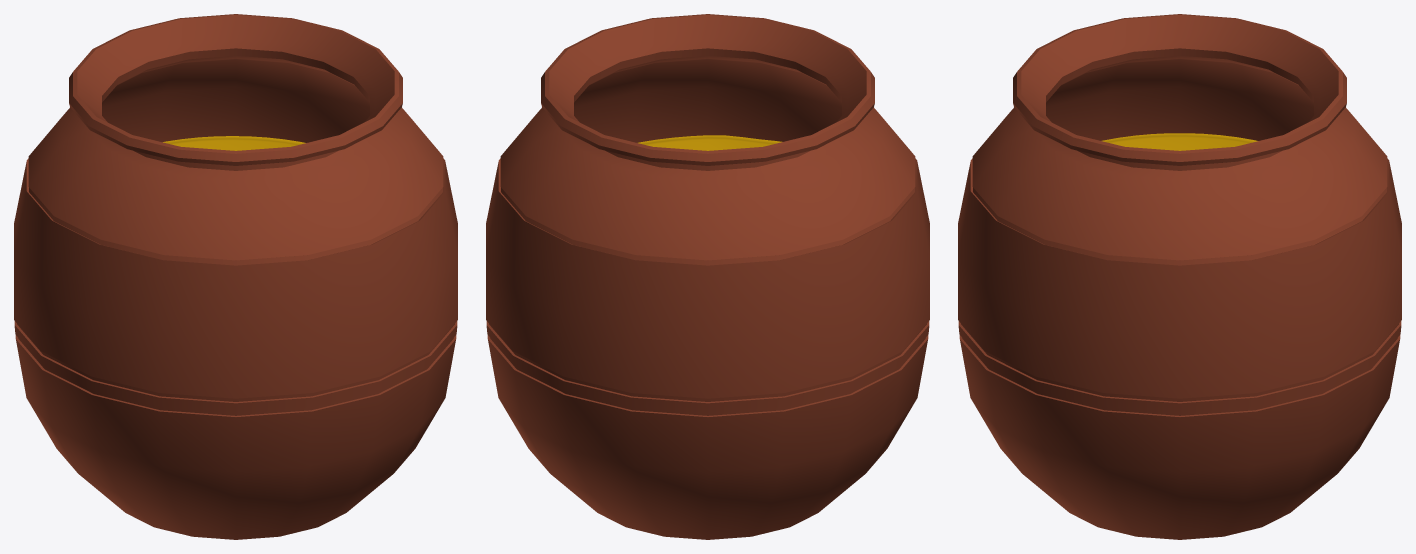
File: pot.fbx
3 renders of one model, left to right at view 1: azimuth 30°, elevation 25°; view 2: azimuth 150°, elevation 25°; view 3: azimuth 270°, elevation 25°, orthographic.
Visible parts, largest first — view 1: BigPot, Cylinder.004; view 2: BigPot, Cylinder.004; view 3: BigPot, Cylinder.004.
Boxes of the visible parts, x1,y1,x2,y2 form: BigPot: [14, 14, 457, 539]; Cylinder.004: [163, 136, 305, 150]; BigPot: [486, 14, 929, 539]; Cylinder.004: [638, 135, 781, 150]; BigPot: [958, 14, 1401, 539]; Cylinder.004: [1102, 133, 1257, 150].
Size of the model in its own units: 45.42 by 44.85 by 44.73.
